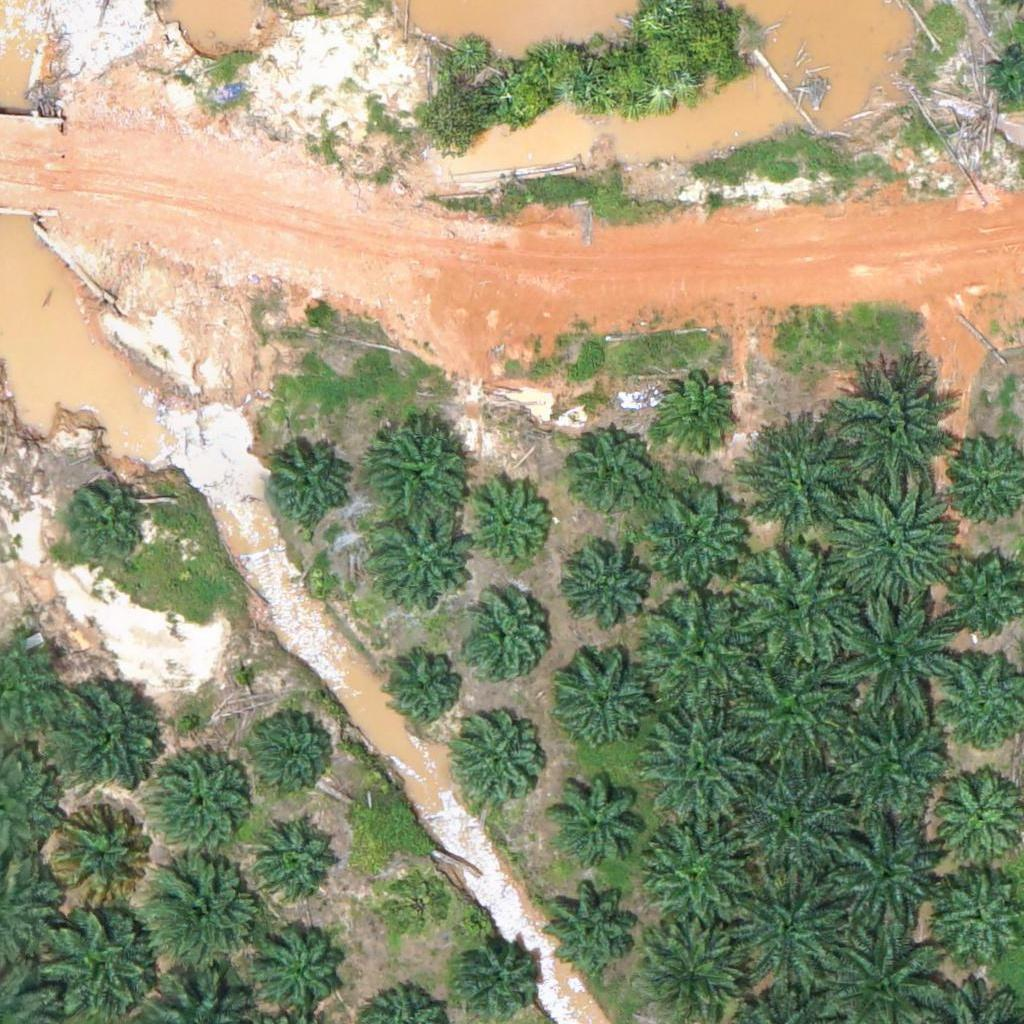Kelapa_Sawit: (820, 809, 945, 935), (833, 359, 958, 485), (828, 480, 953, 606), (829, 592, 954, 718), (833, 707, 958, 833), (742, 415, 867, 541), (737, 540, 862, 666), (730, 643, 855, 769), (731, 756, 856, 882), (727, 864, 852, 990), (639, 589, 764, 715), (43, 669, 168, 795), (139, 845, 264, 971), (45, 798, 158, 911), (146, 748, 258, 862), (641, 806, 753, 919), (641, 705, 753, 818), (649, 487, 749, 588), (545, 768, 645, 869), (544, 875, 644, 976), (372, 511, 472, 612), (368, 418, 468, 519), (247, 913, 347, 1014), (550, 649, 650, 749), (571, 428, 659, 516), (464, 483, 552, 571), (461, 596, 549, 684), (453, 719, 541, 807), (263, 443, 351, 531), (452, 930, 539, 1019), (62, 484, 149, 572), (381, 643, 468, 731), (651, 371, 738, 459), (565, 547, 652, 635), (255, 813, 342, 901), (250, 708, 337, 796), (381, 866, 456, 942)
